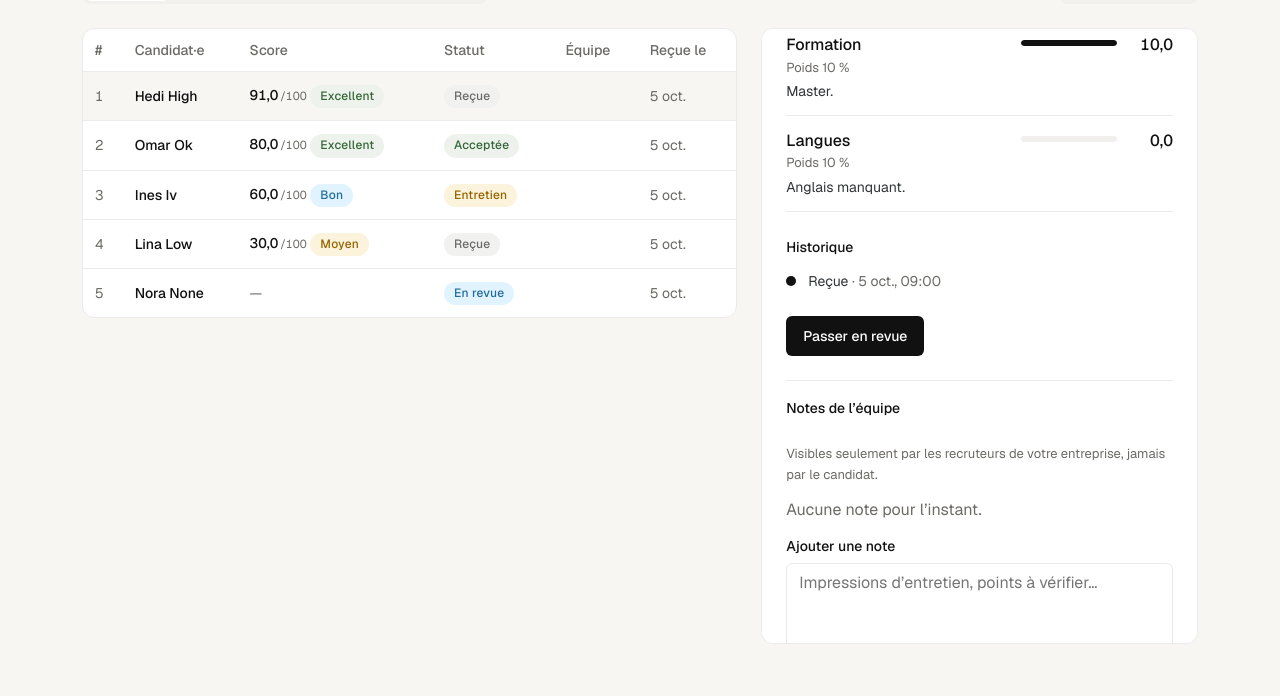
Scenario: status changes › does nothing when the confirmation is cancelled
(page scrolled)
Click the button "Passer en revue" at (855, 336), box [786,316,924,356]
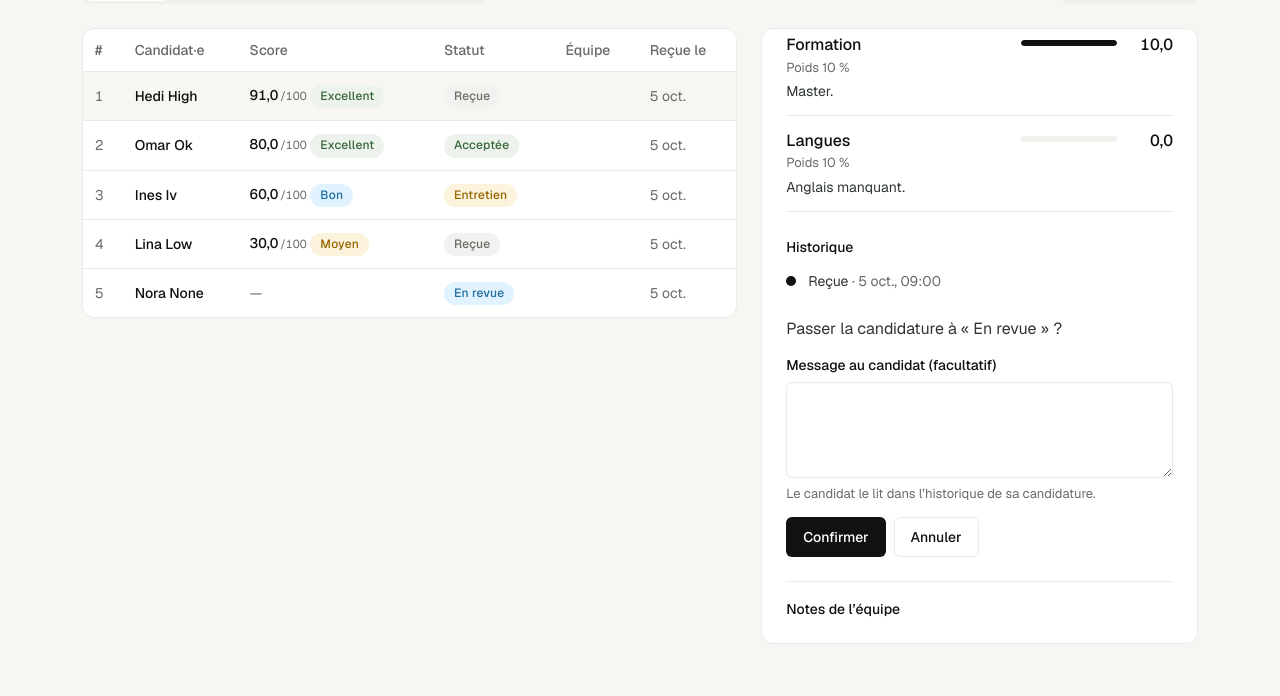
Click the button "Annuler" at (936, 537), box [894,517,979,557]
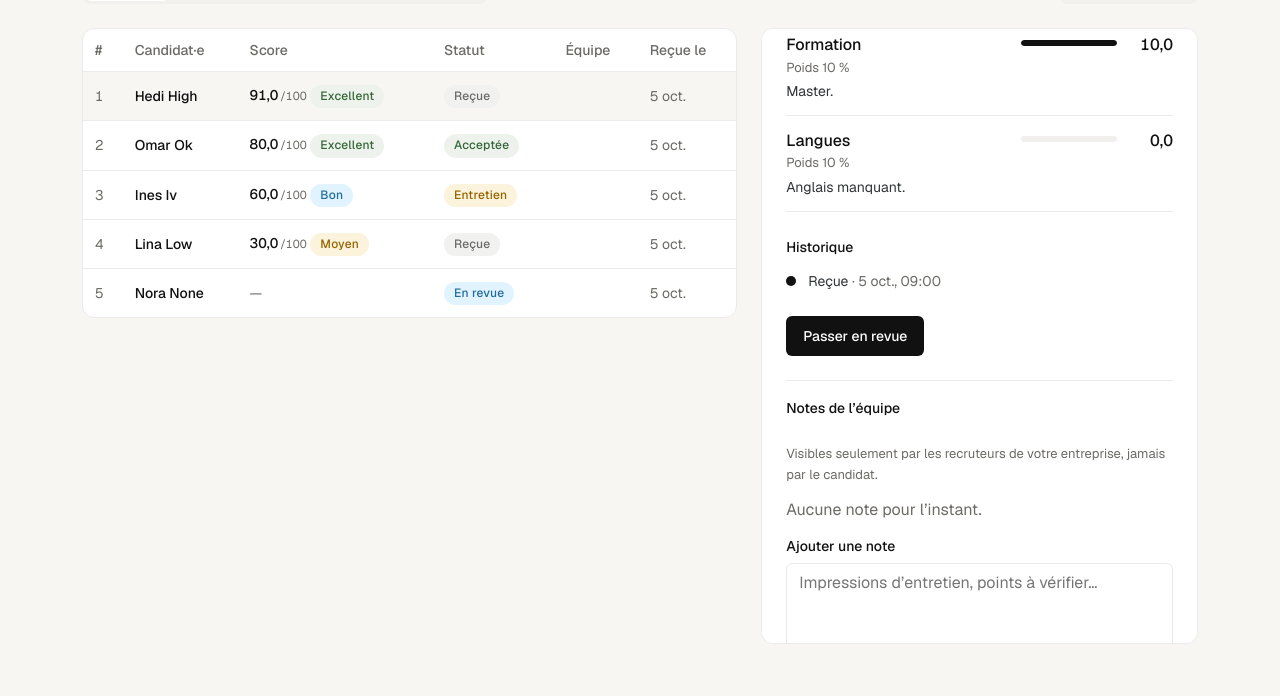
Now the button "Passer en revue" is shown, box [786,316,924,356]
